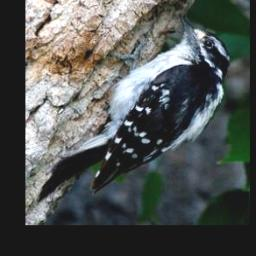Woodpecker: (33, 14, 235, 202)
